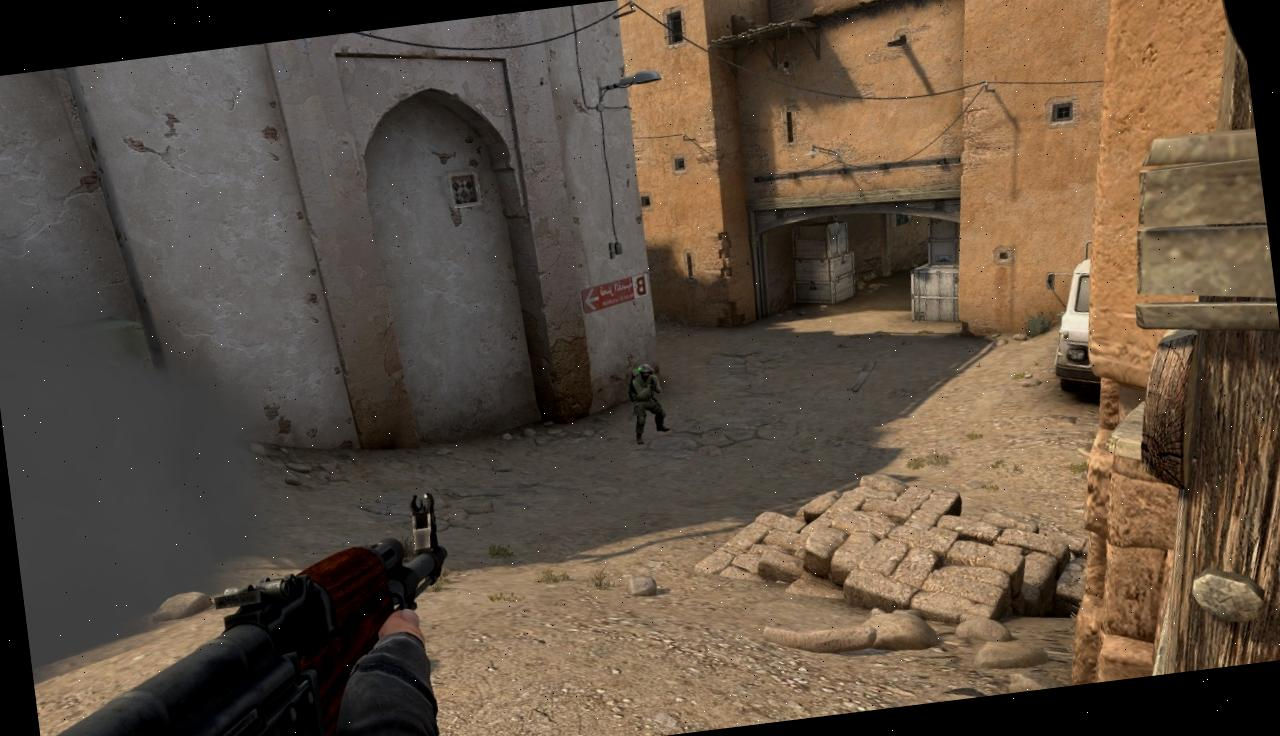ct: (628, 362, 668, 443)
cthead: (639, 363, 652, 380)
rifle: (16, 491, 474, 736)
